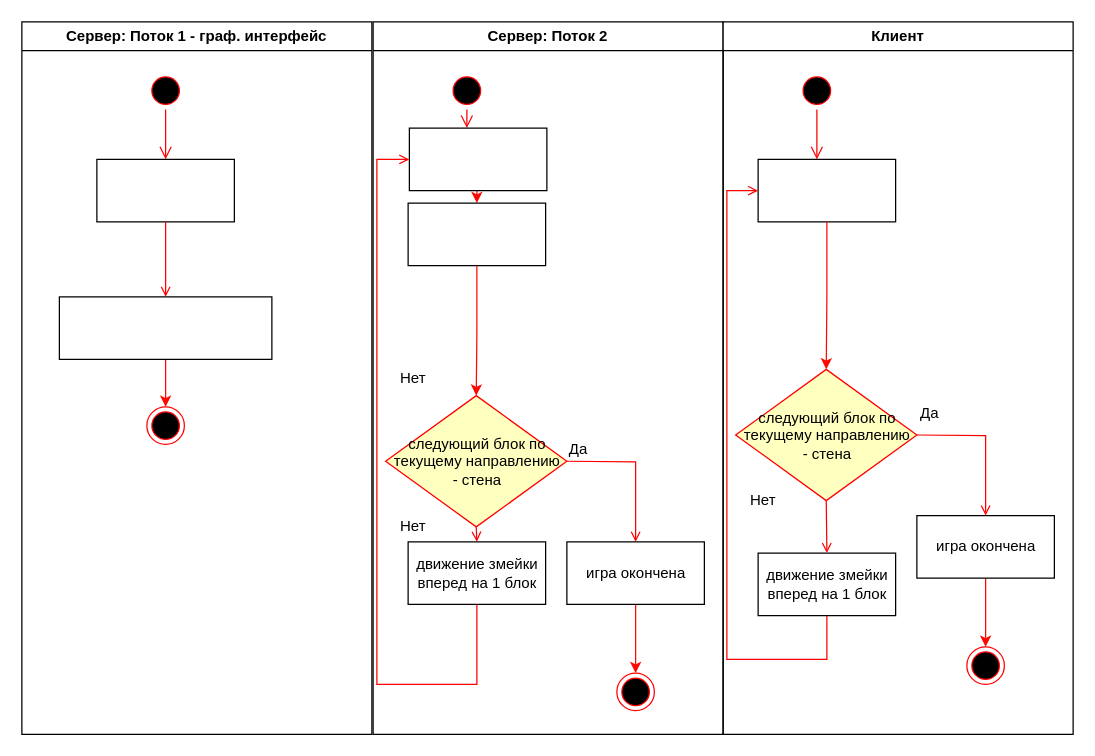
Image size: 1095x756. Some labels were removed from this diagram. The centre of each missing label's shape, as x and y in pixels:
Изменение направления движения змейки: (165,327)
ожидание ко- манды сервера: (826,190)
отправка команды клиенту: (476,234)
Пользователь нажал кнопки ← → ↑ ↓: (165,190)
простой (300 мс.): (477,159)
